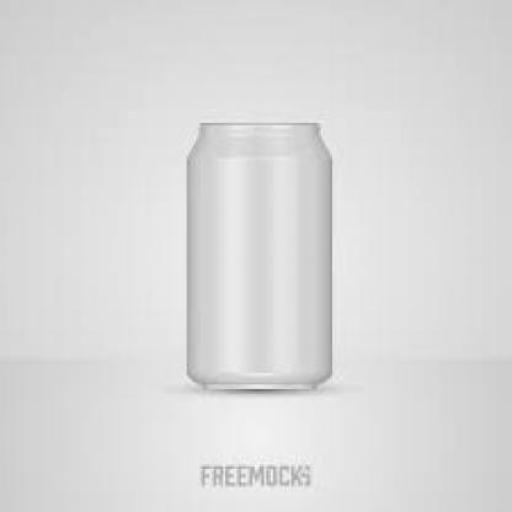metal: (185, 123, 332, 387)
